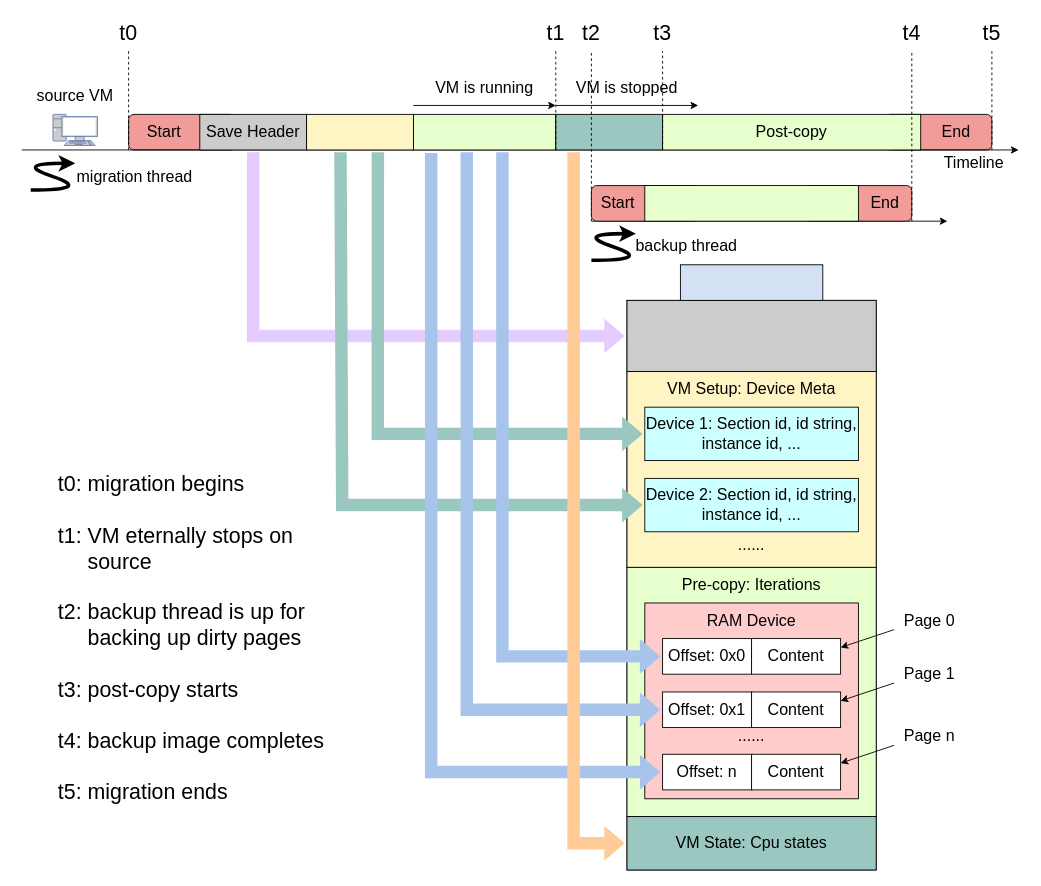
This 1041x886 diagram has some shape labels left out. Here are the shapes that lost their labels. From the top down, the centre of each, then its label:
point 359,131: Save Setup
point 484,131: Pre-copy
point 609,131: Downtime
point 751,203: Backup dirty dages
point 751,282: Backup Image
point 751,335: VM Header: Machine Type, Version id, ...
